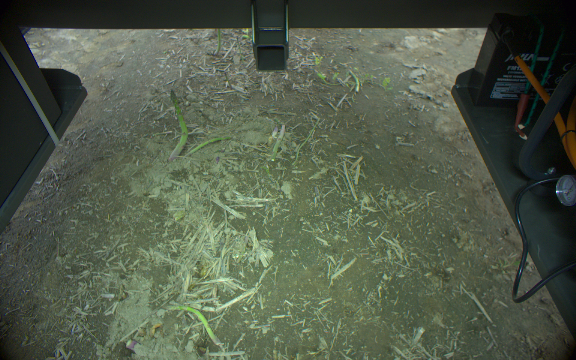aspa: (162, 302, 224, 346), (166, 88, 188, 160), (185, 135, 231, 157), (270, 124, 286, 157), (347, 69, 360, 94), (213, 28, 223, 57), (269, 125, 278, 138)
